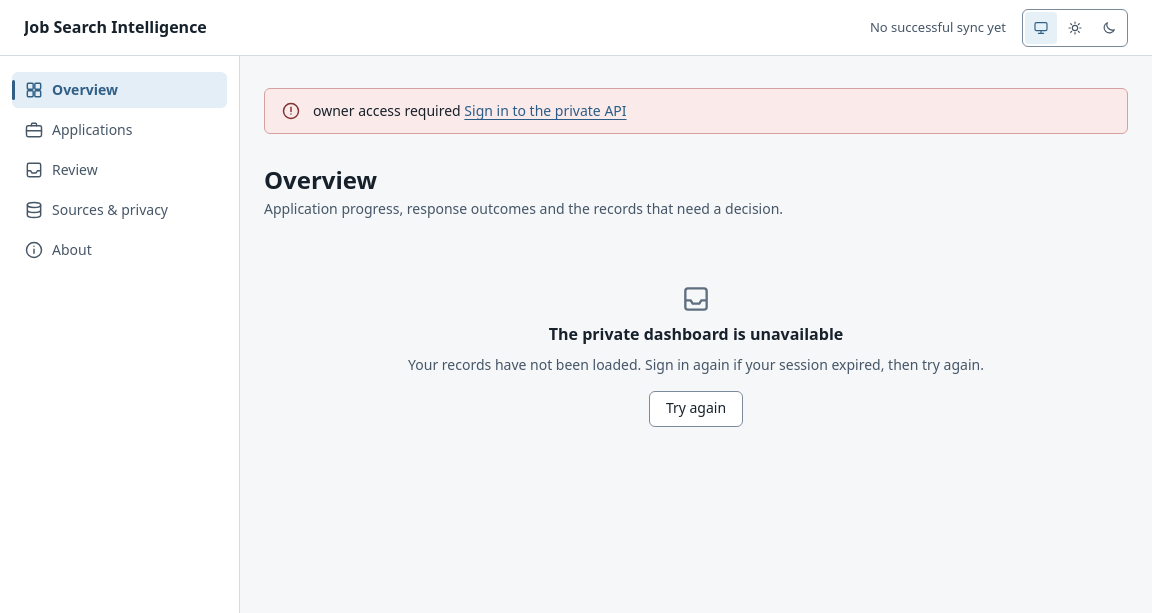
Overview states › offers a retry when the dashboard cannot be loaded
Expected: the text "The private dashboard is unavailable" is shown, [549, 323, 843, 347]
Expected: the message shows "owner access required", [313, 101, 461, 120]
Click the button "Try again": (696, 409) [649, 391, 743, 427]
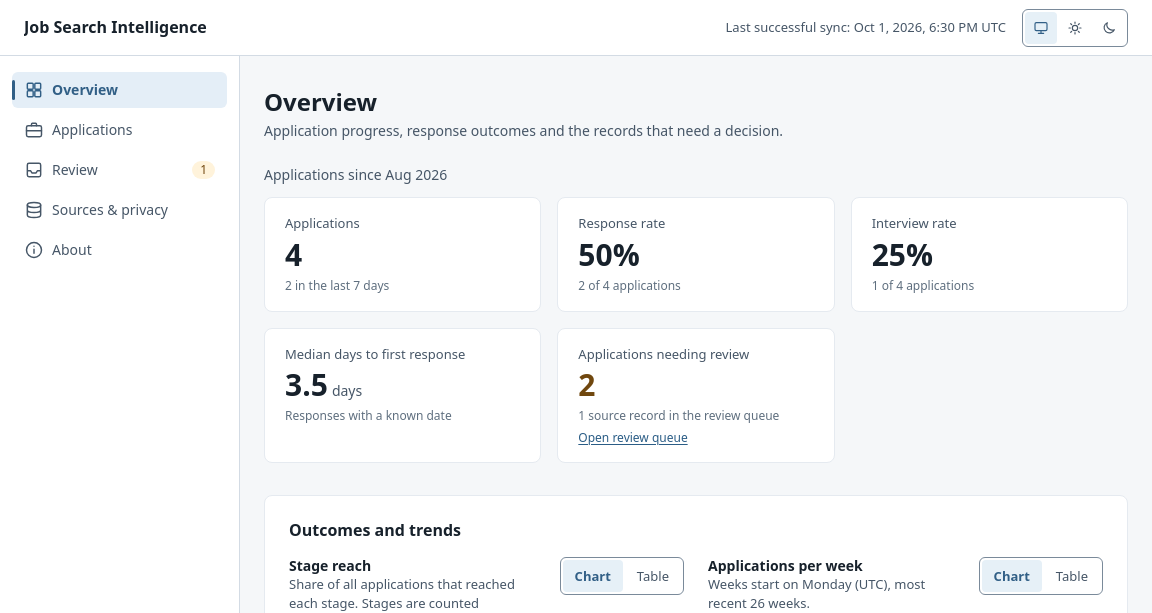
Result: the element named "Key figures" is shown at [264, 197, 1128, 463]
